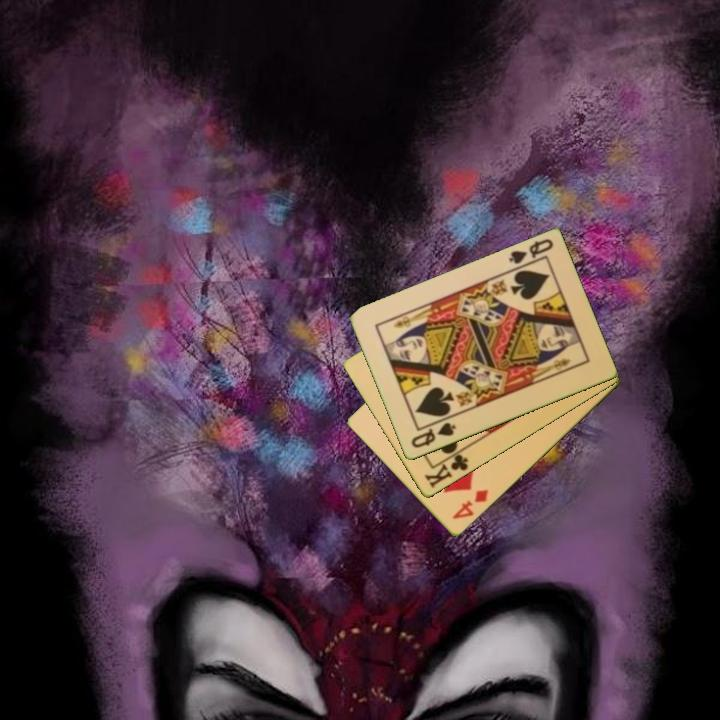4d: (448, 486, 491, 523)
Kc: (421, 446, 471, 491)
Qs: (407, 419, 459, 451), (505, 236, 556, 268)
